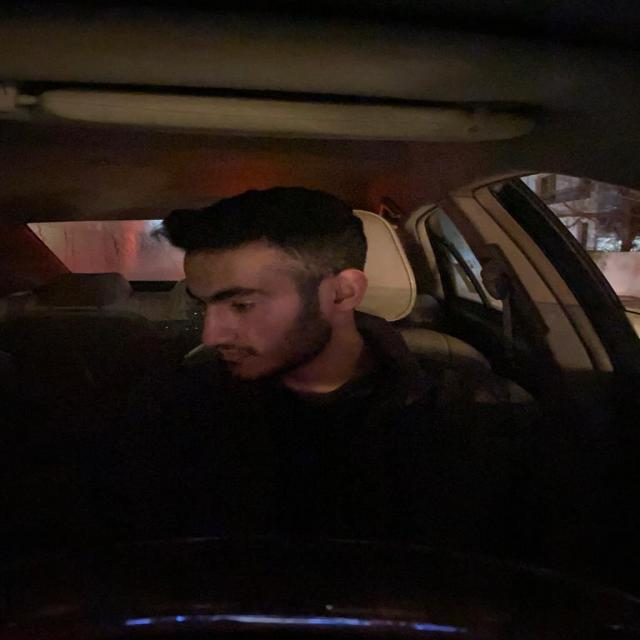person: (167, 213, 377, 382)
